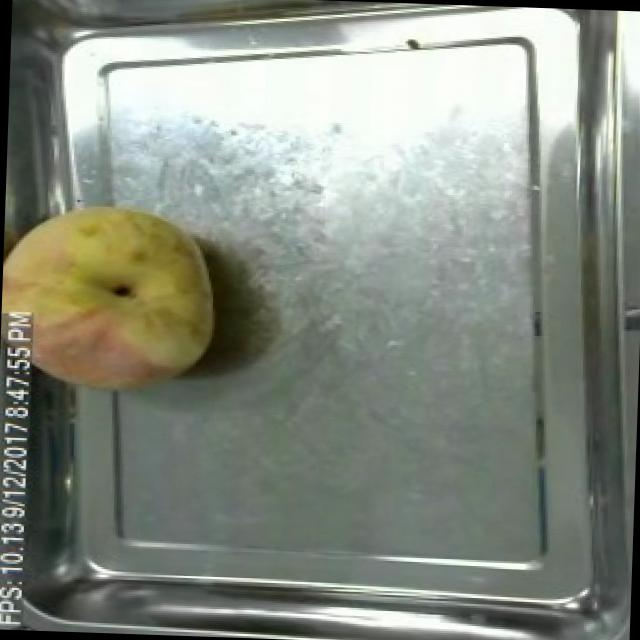Fruit: (0, 186, 227, 404)
